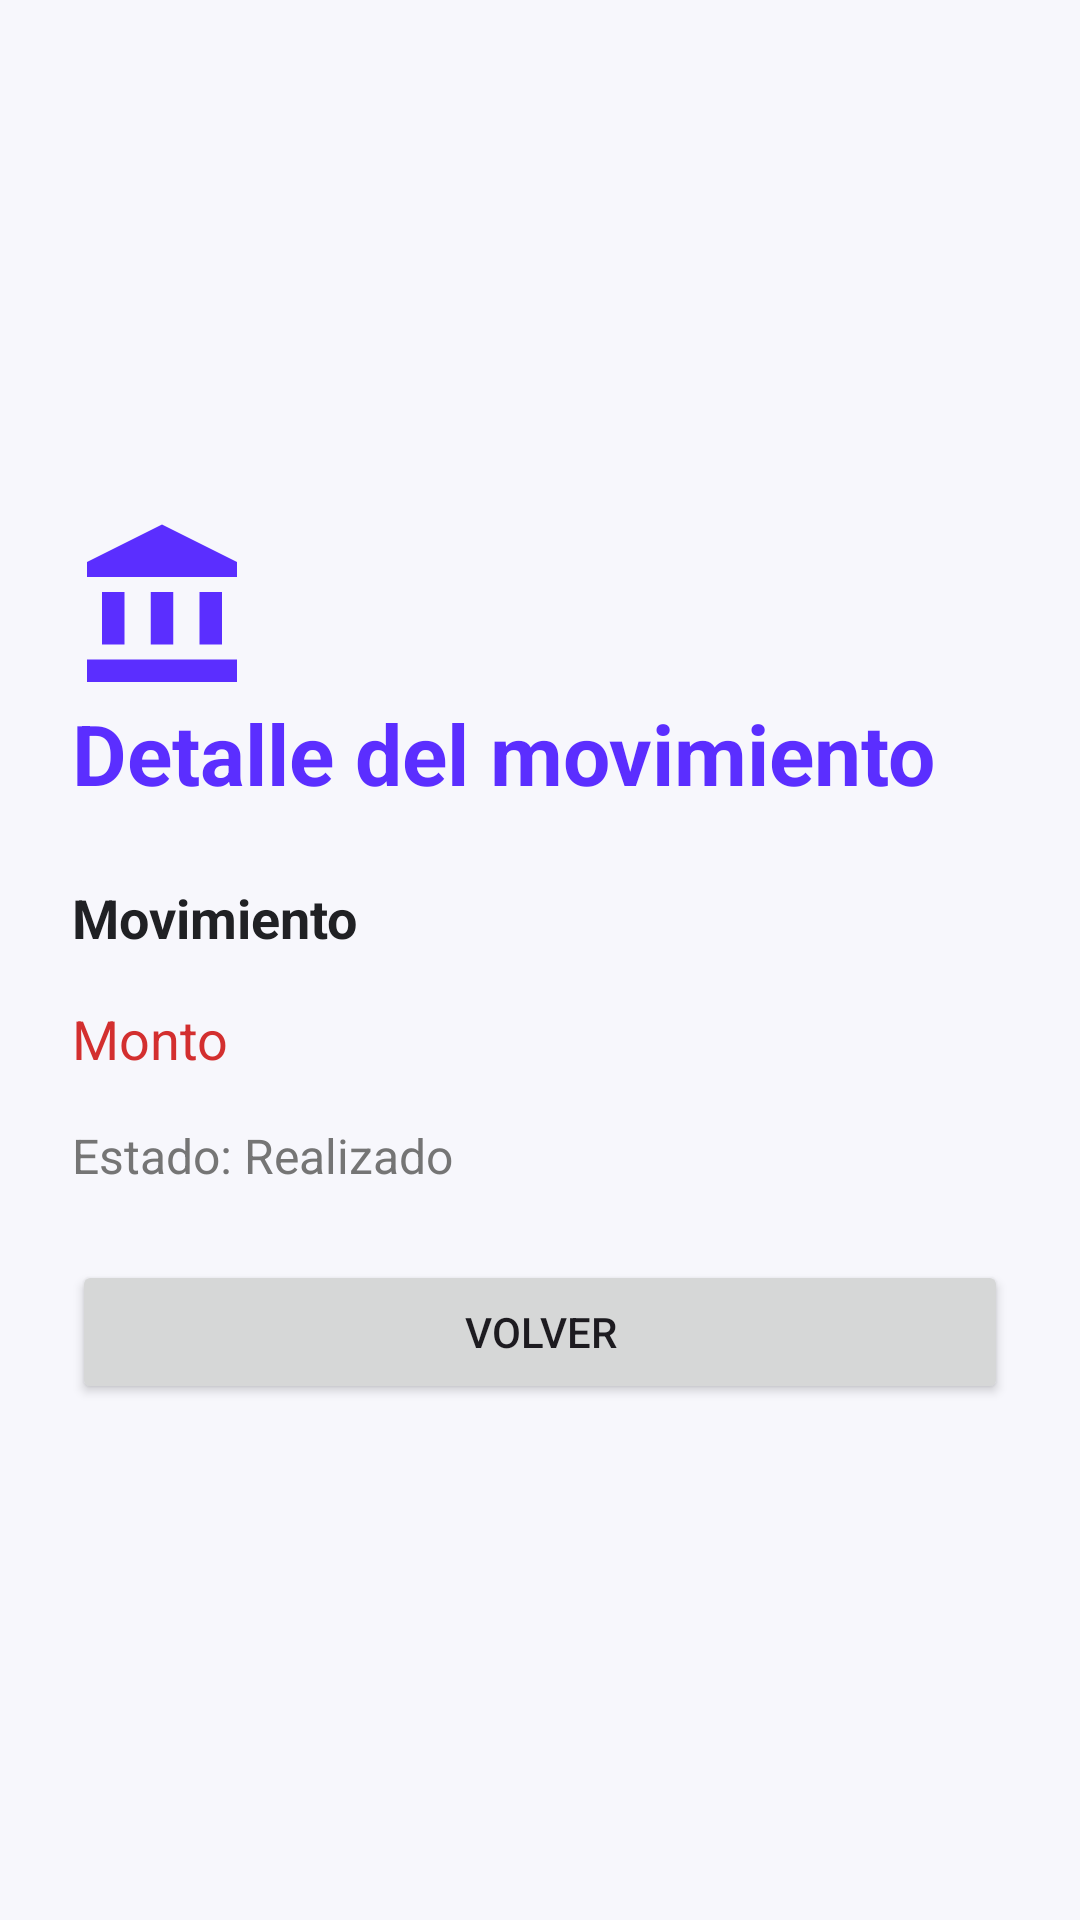

Locate icon controls on the screen. Image size 1080w x 1920h, boxes as (x1,y1,x2,y2).
account balance: (87,524,237,682)
